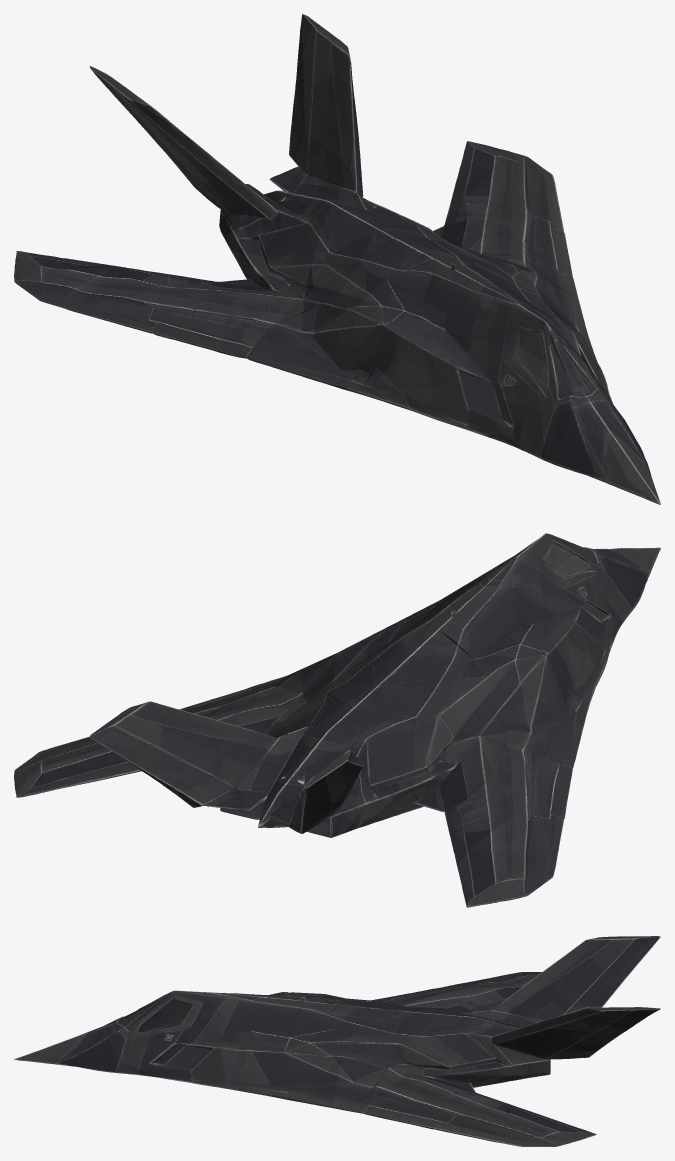
3 views of the same model, one above another, from view 1: azimuth 30°, elevation 25°; view 2: azimuth 150°, elevation 25°; view 3: azimuth 270°, elevation 25° (orthographic). The views are drawn at different scales.
Size of the model in its own units: 1.21 by 0.3161 by 1.9.
1 material, 1 textured.
